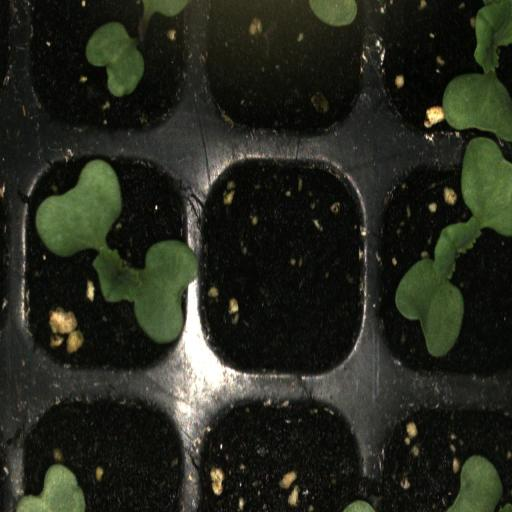noseedling: (195, 153, 372, 383)
seedling: (8, 142, 196, 384), (373, 151, 512, 384)
